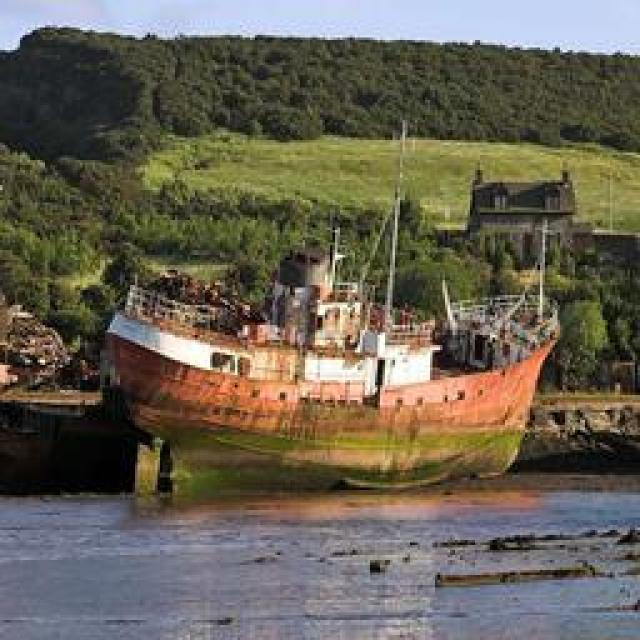CIV_Ship: (107, 241, 555, 489)
